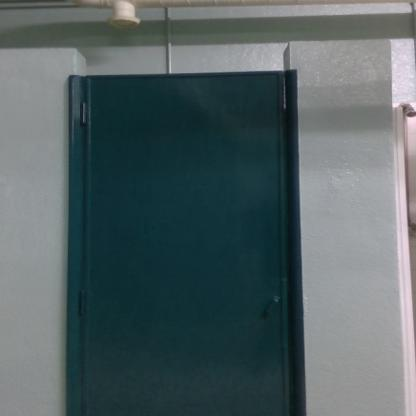door: (86, 80, 290, 416)
hinged: (76, 286, 90, 314), (81, 100, 90, 126)
